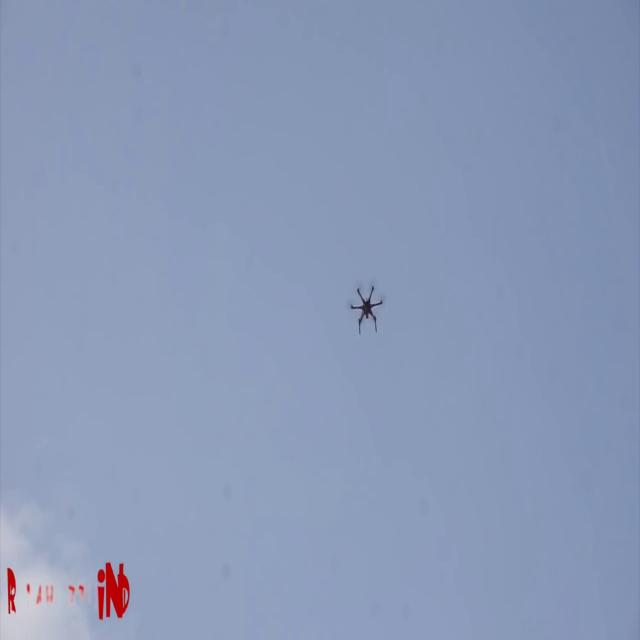drone: (349, 278, 387, 337)
